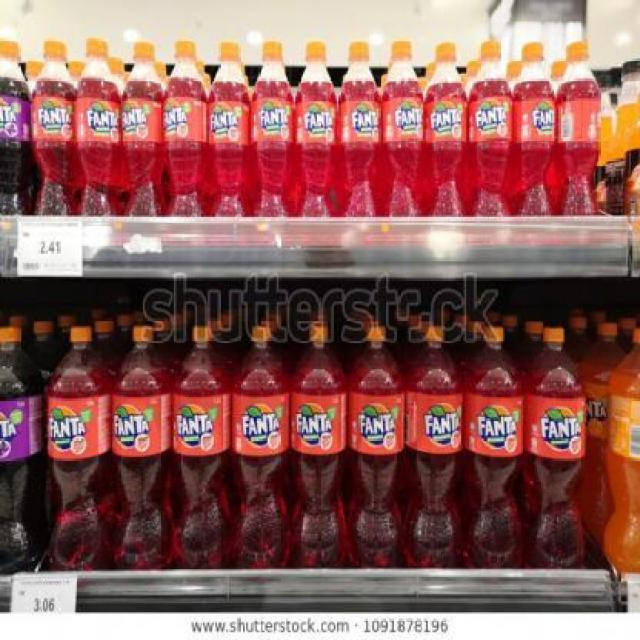Drinks: (45, 323, 111, 571), (524, 326, 587, 568), (171, 325, 233, 569), (111, 322, 171, 570), (464, 326, 524, 569), (232, 324, 290, 570), (289, 323, 347, 567), (347, 325, 405, 568), (405, 327, 463, 569), (0, 326, 44, 573), (76, 37, 120, 215), (32, 39, 76, 216), (555, 39, 599, 215), (165, 40, 208, 217), (251, 41, 294, 218), (294, 41, 337, 218), (337, 41, 380, 218), (381, 41, 424, 218), (468, 40, 511, 217), (208, 42, 251, 218), (425, 41, 468, 217), (512, 41, 555, 217), (122, 42, 165, 216), (0, 41, 31, 215)
